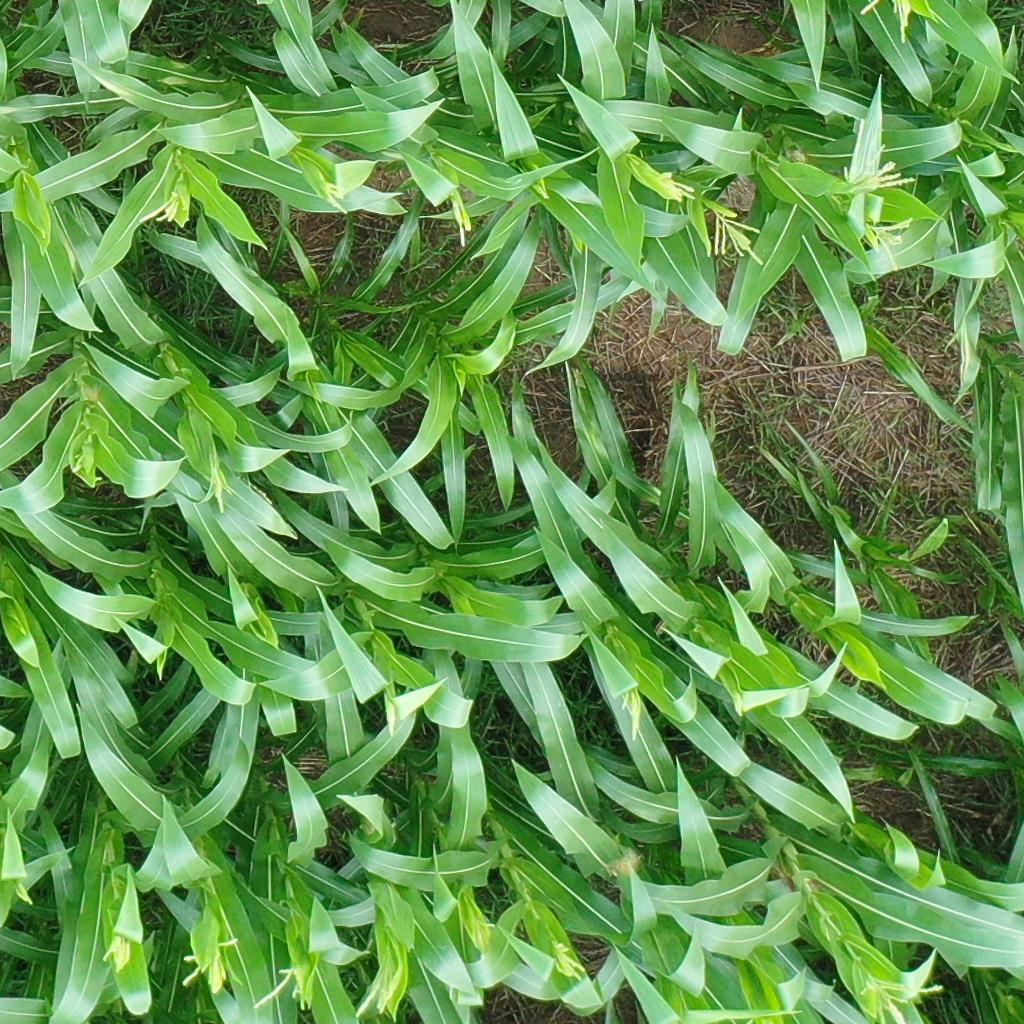Tassel: (838, 115, 915, 197), (856, 974, 942, 1023), (177, 935, 236, 1000), (852, 217, 917, 272), (709, 205, 770, 263), (250, 958, 310, 1013), (356, 958, 402, 1017), (857, 1, 918, 41), (614, 682, 646, 745), (310, 167, 349, 217), (546, 939, 590, 981), (133, 192, 184, 228), (650, 167, 697, 205), (97, 932, 135, 971), (203, 459, 230, 512), (461, 914, 497, 949)
